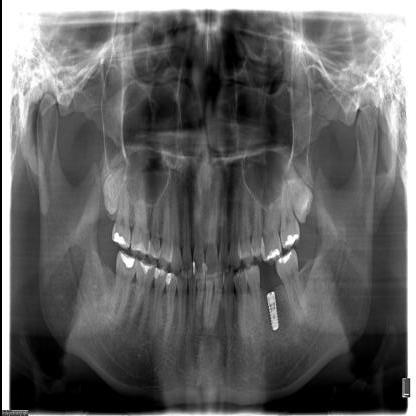ITI: (263, 284, 280, 334)
